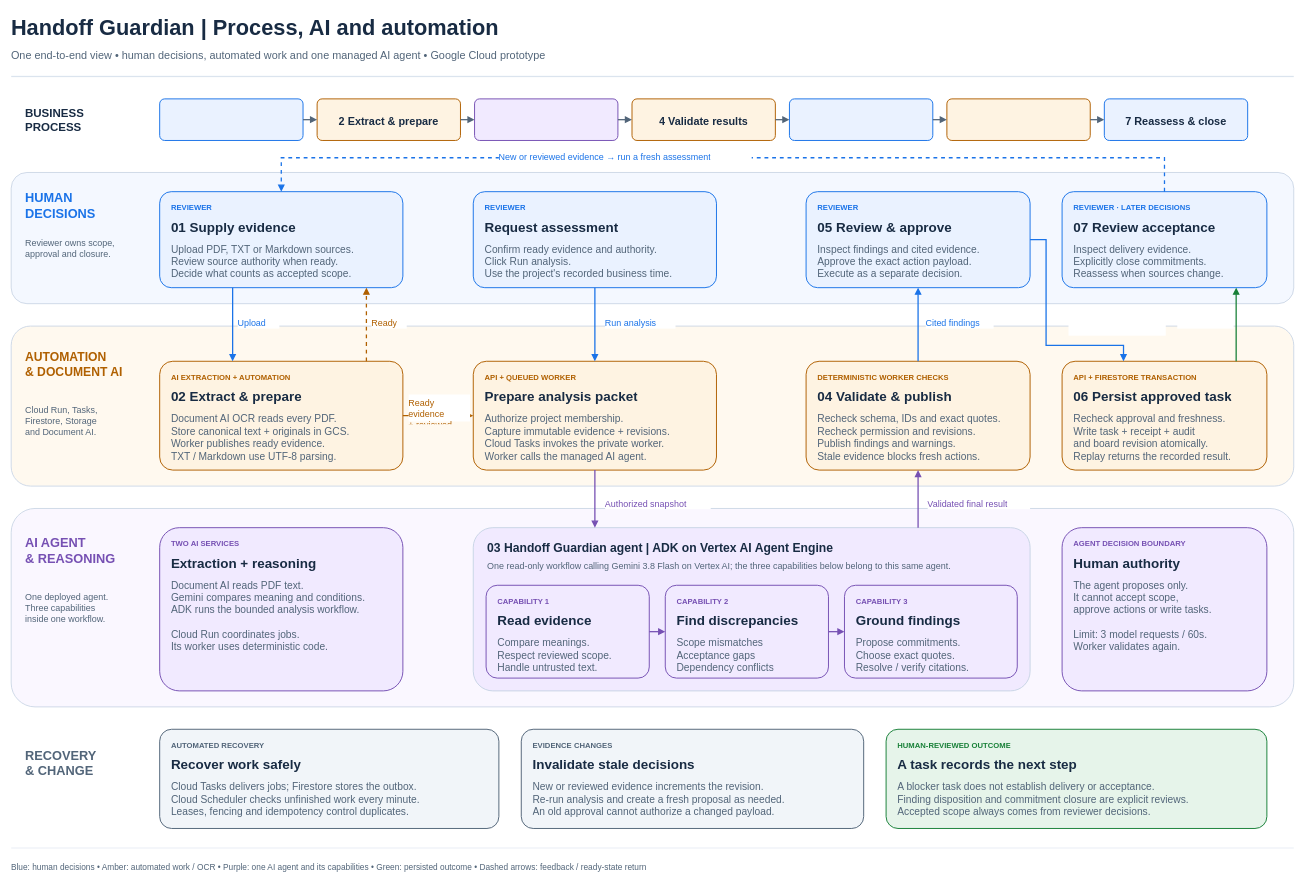
This 1306x889 diagram has some shape labels left out. Here are the shapes that lost their labels. From the top down, the box of each, then its label:
(159, 98, 303, 141): 1 Collect evidence
(474, 98, 618, 141): 3 AI assessment
(789, 98, 933, 141): 5 Review & approve
(946, 98, 1090, 141): 6 Create blocker task
(1068, 308, 1165, 335): Approved payload + Execute request
(1177, 315, 1233, 328): Task + audit
